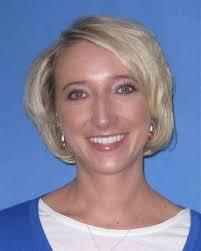normalMouth: (78, 127, 135, 155)
